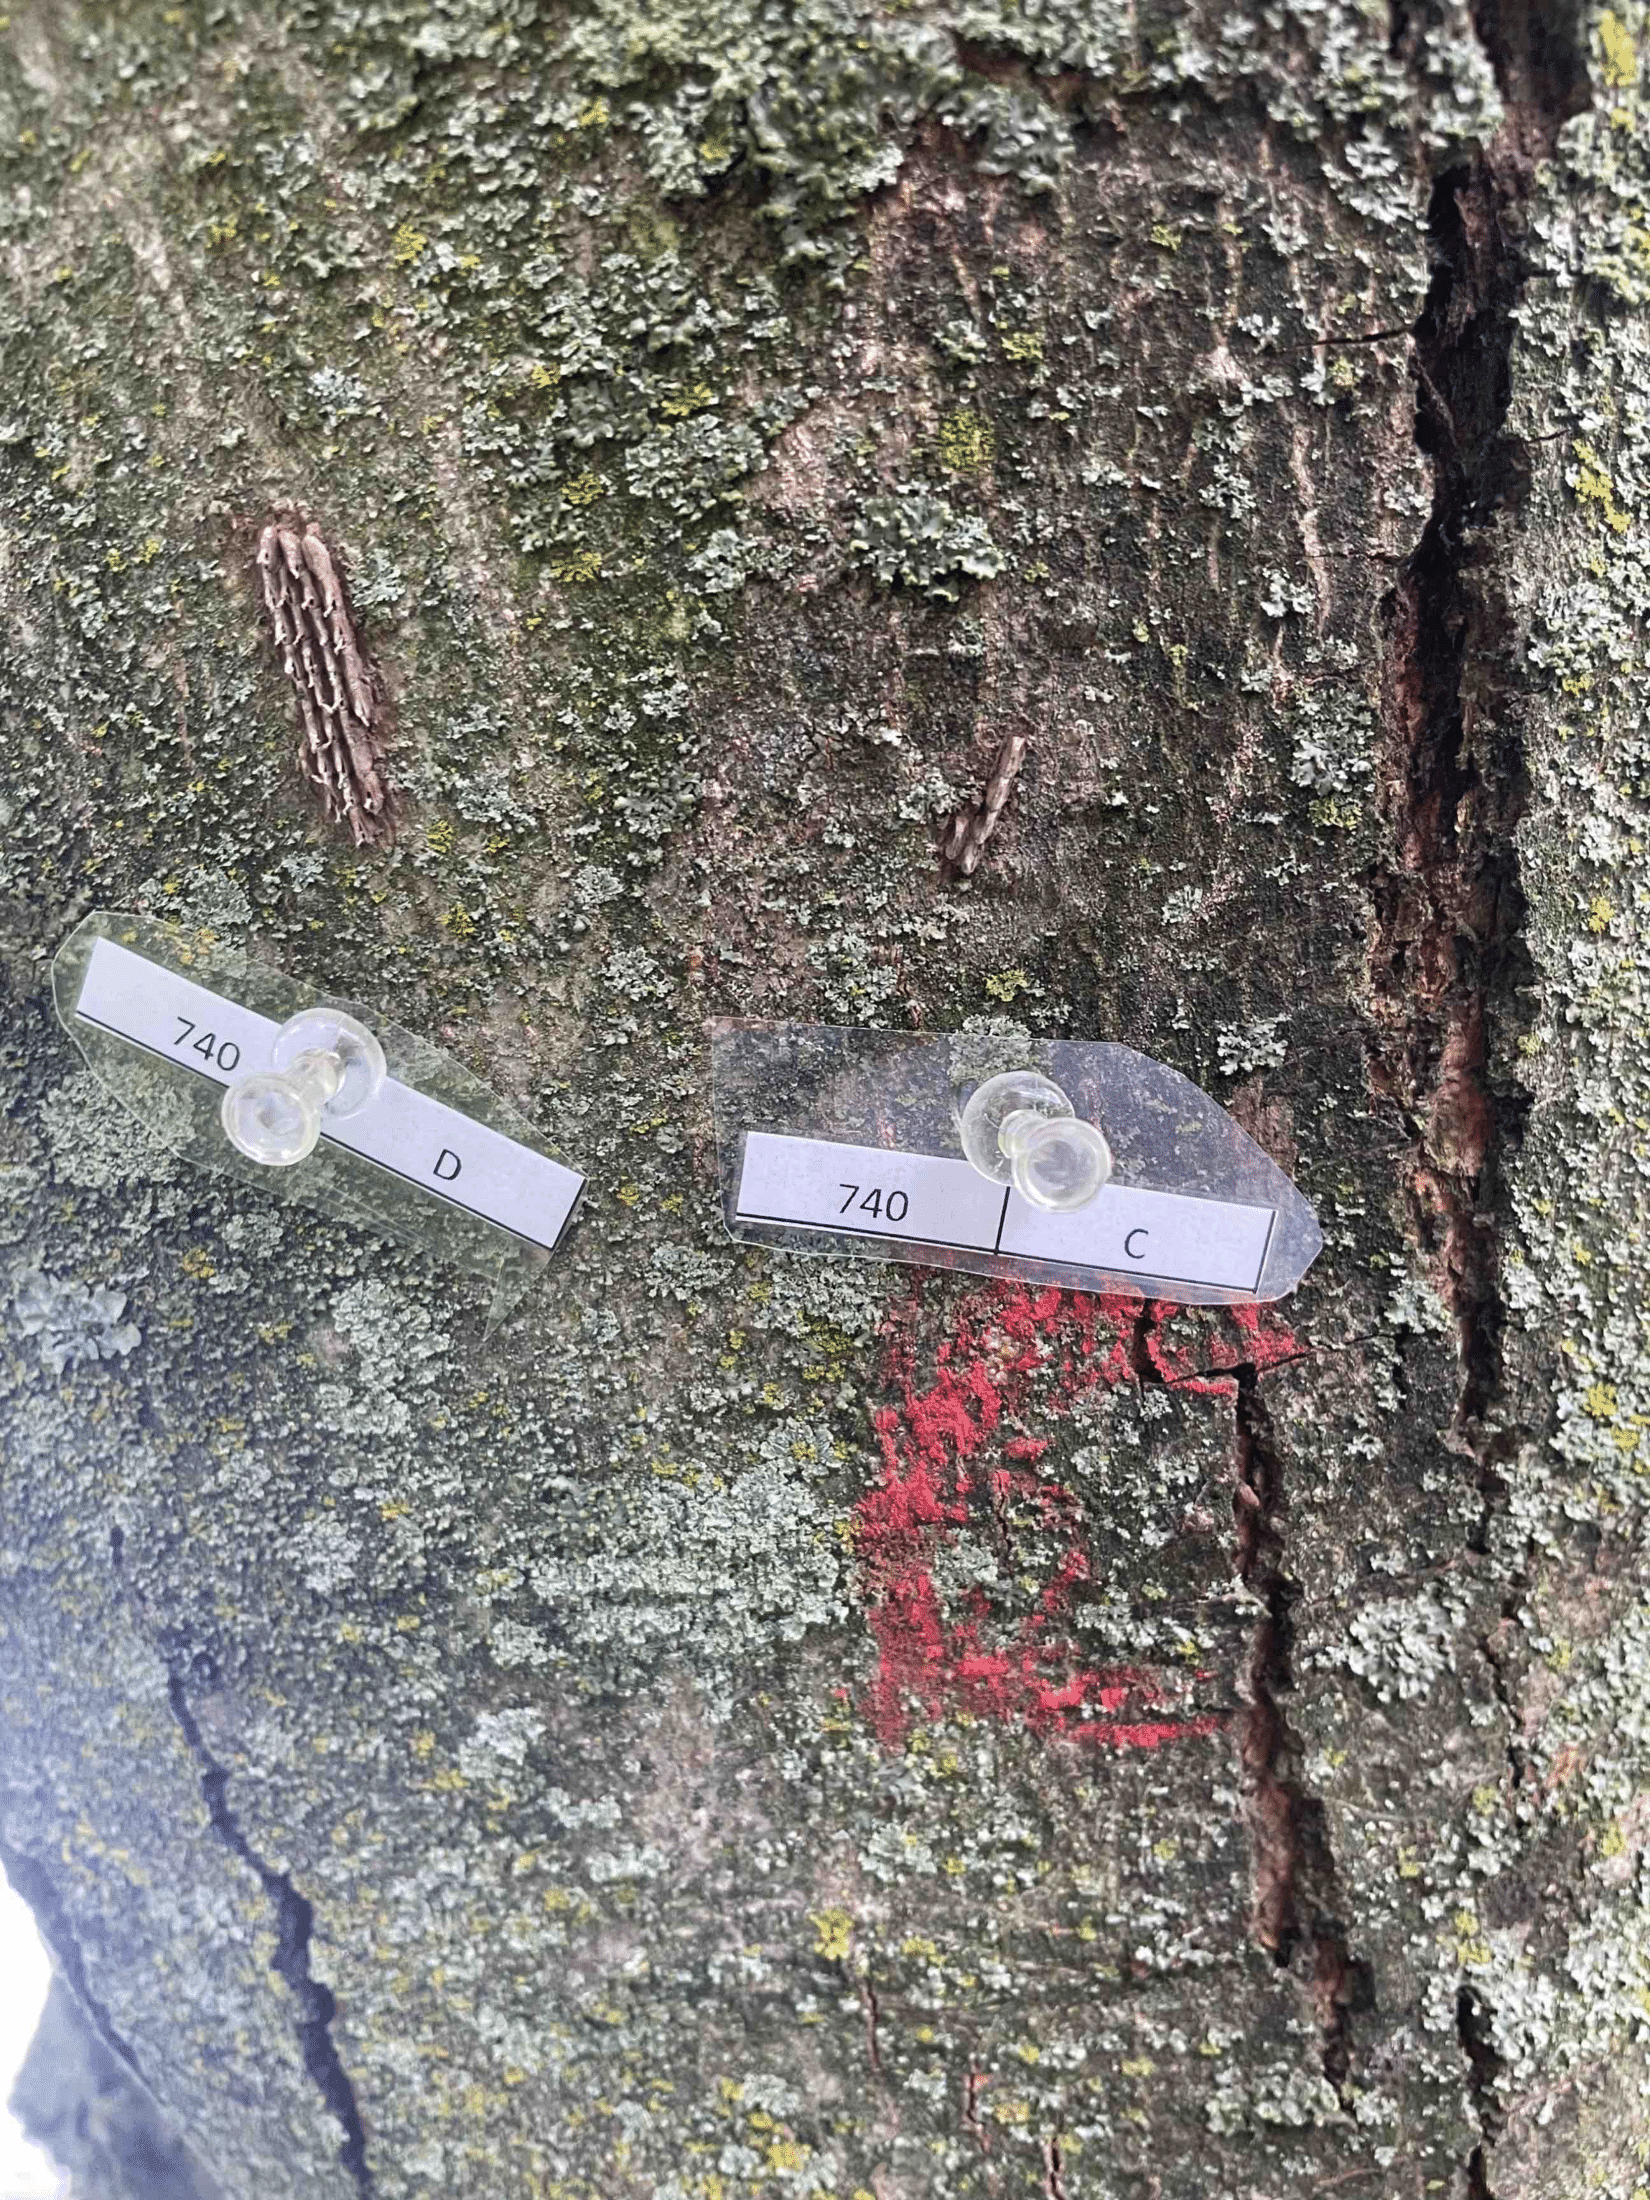egg masses: (191, 490, 421, 885), (893, 731, 1075, 911)
